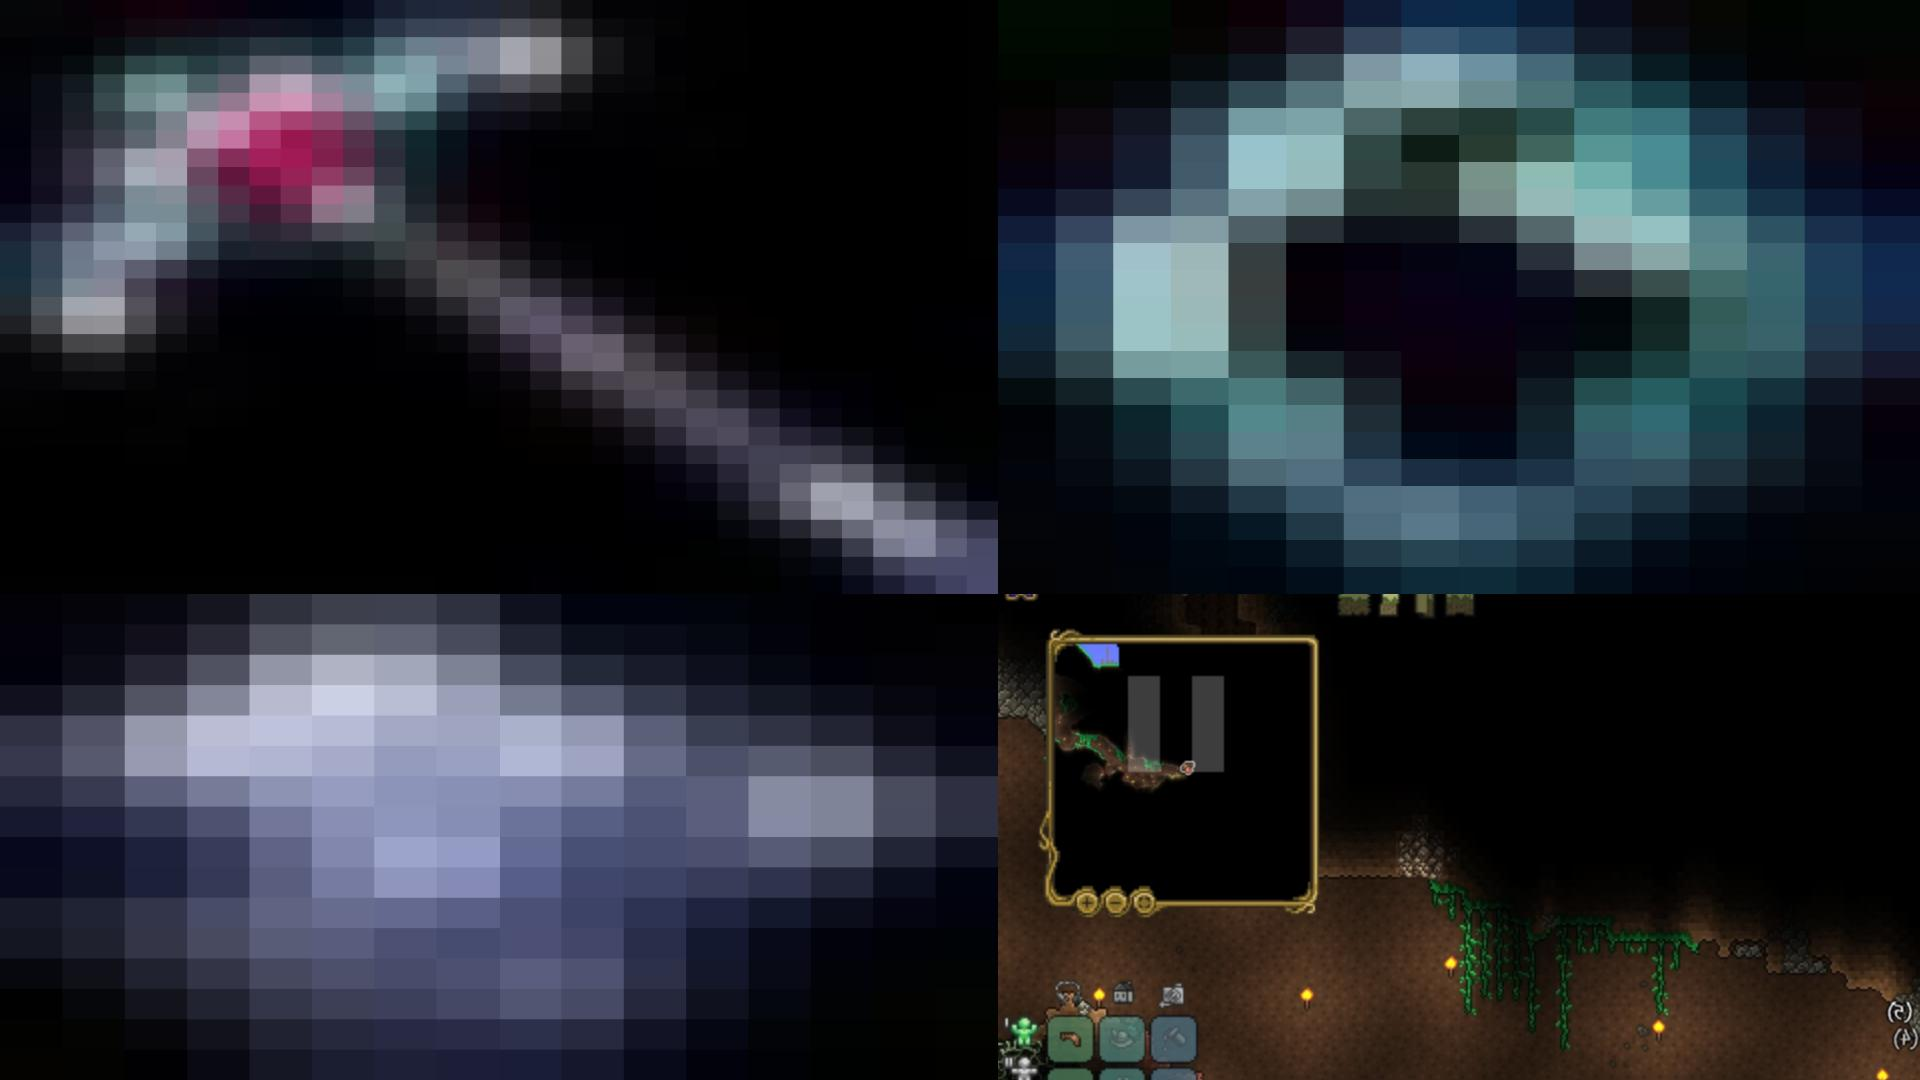lens: (998, 0, 1920, 593)
ore: (0, 593, 998, 1080)
pickaxe: (0, 0, 998, 593)
